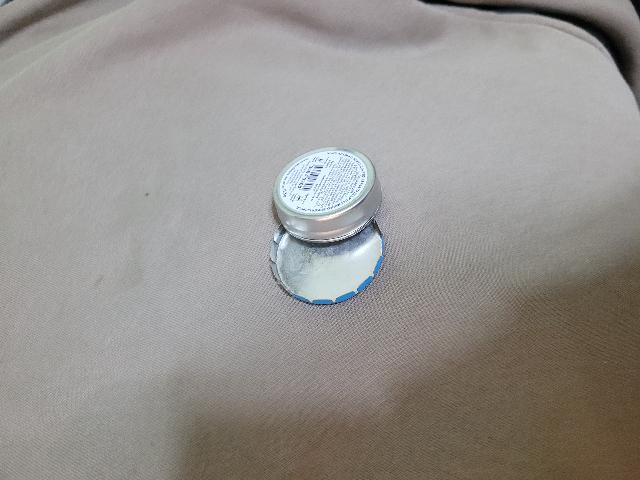Metal: (272, 149, 394, 242), (269, 220, 390, 304)
